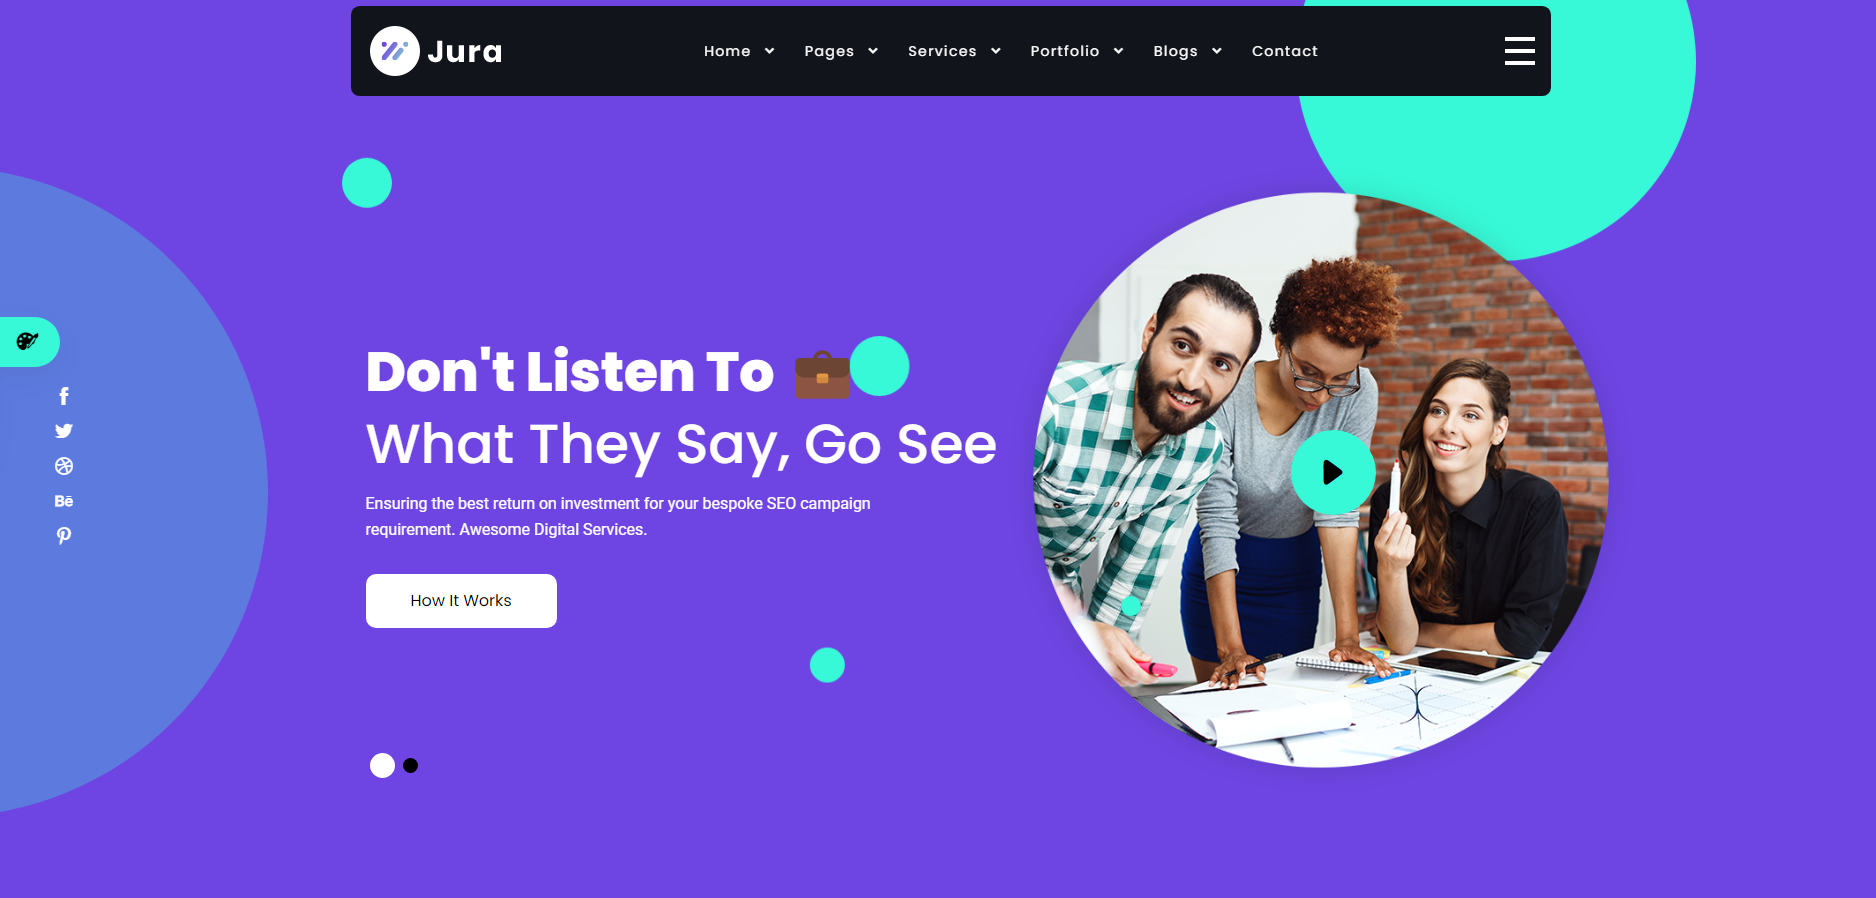menu-icon: (26, 4, 1823, 159)
